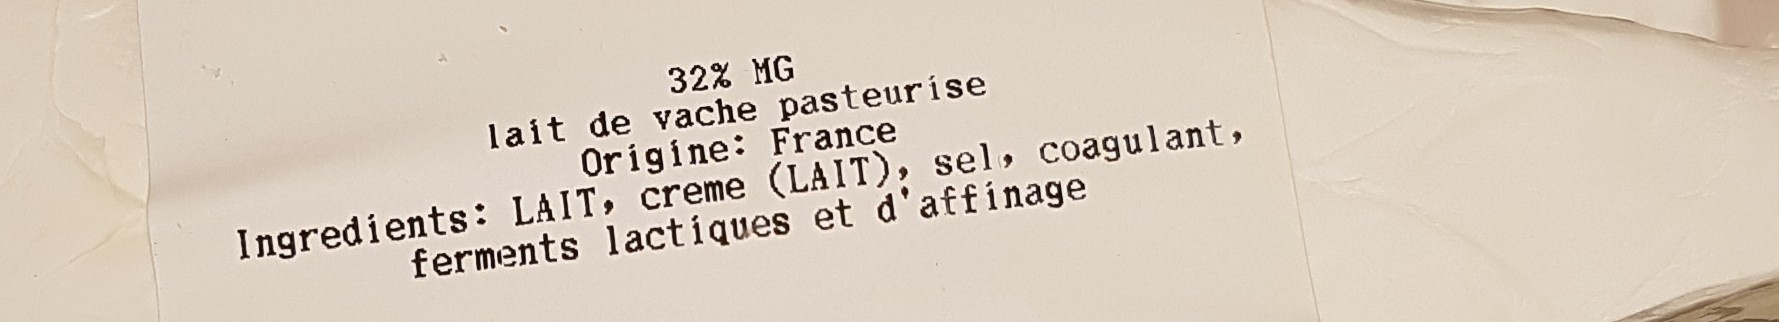ingredients: (169, 115, 1274, 295)
